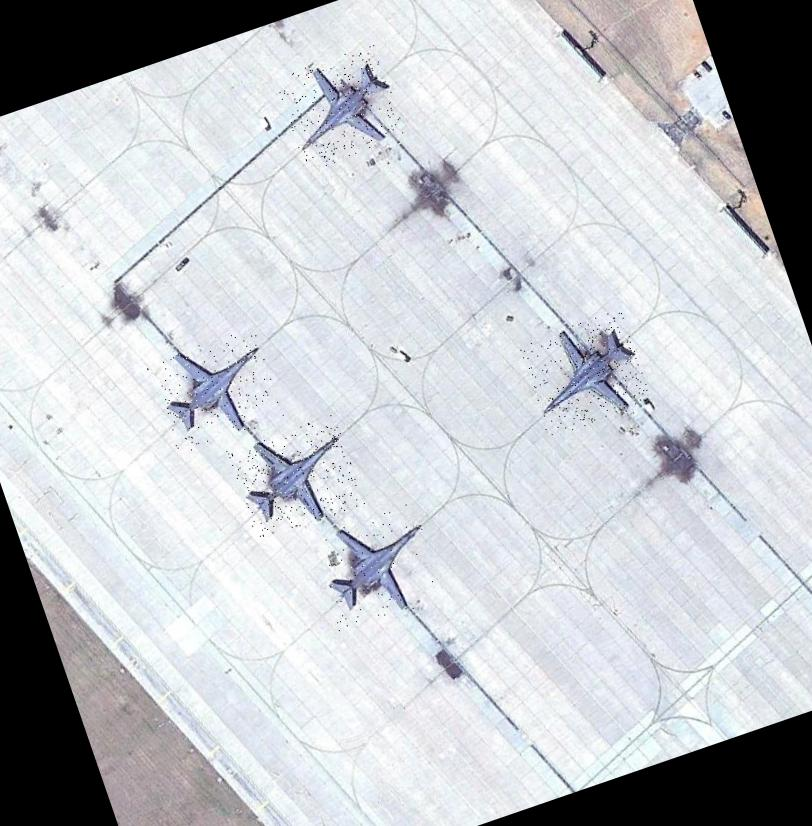A10: (306, 500, 449, 634), (516, 308, 655, 439), (146, 326, 286, 456), (226, 413, 366, 542), (274, 43, 408, 172)
